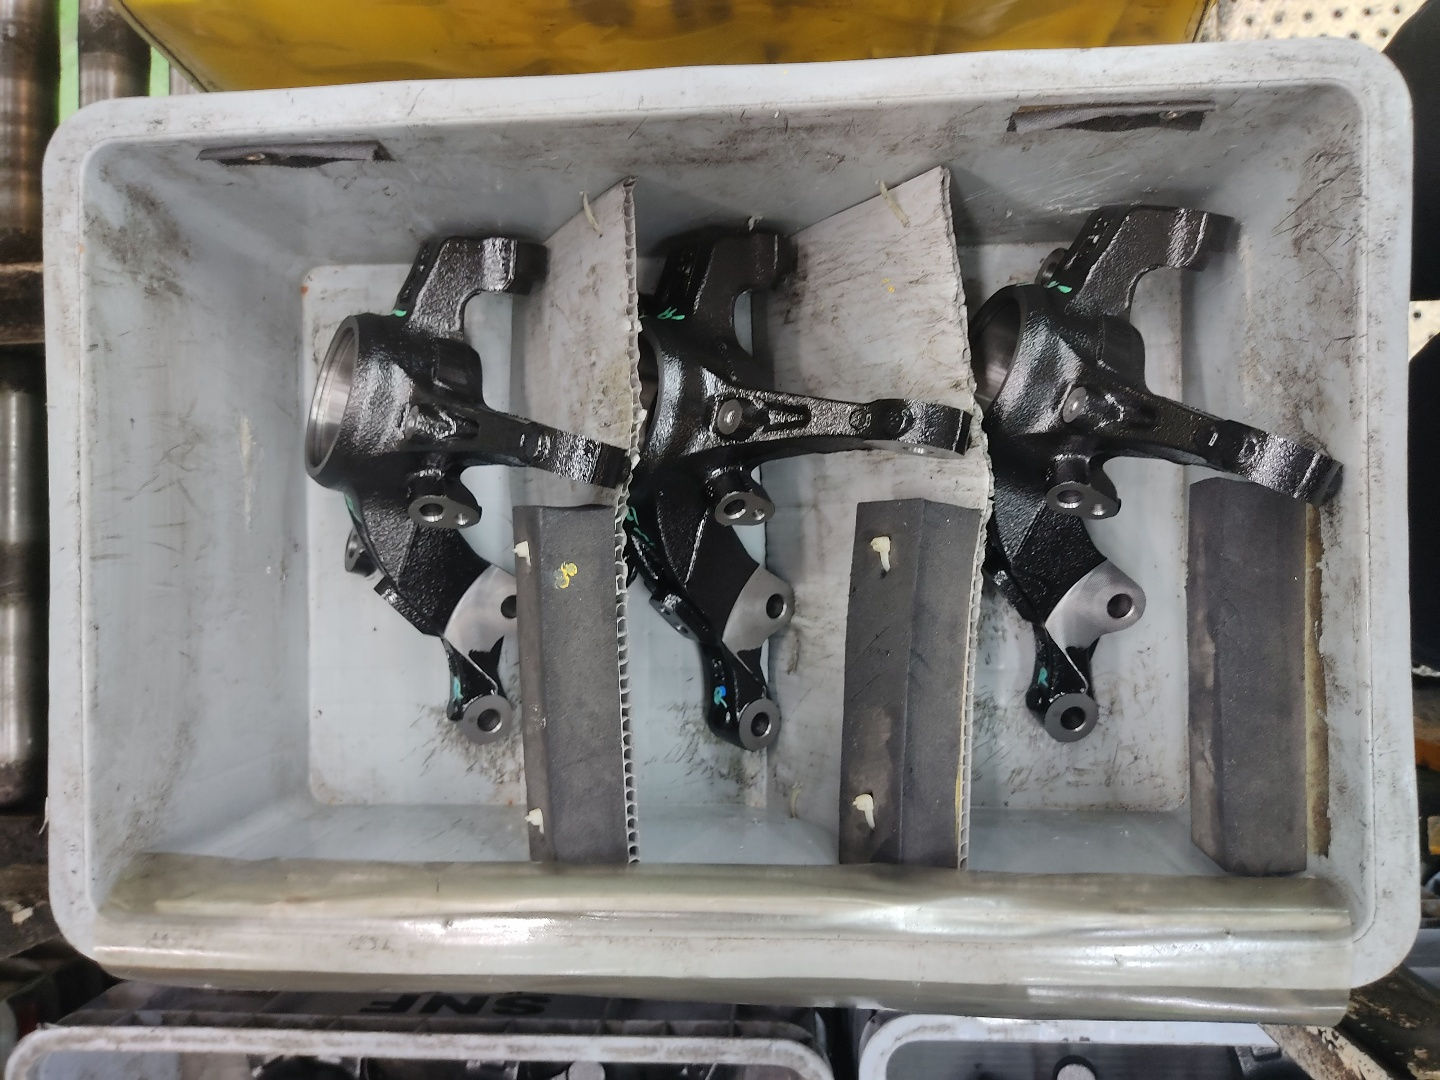abs-rh: (972, 191, 1346, 750), (628, 214, 972, 759), (297, 228, 633, 756)
